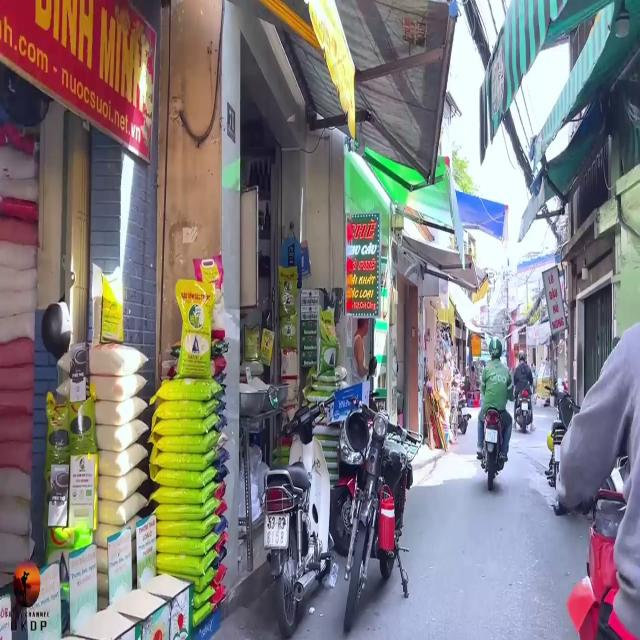bien_trang: (260, 513, 294, 552)
